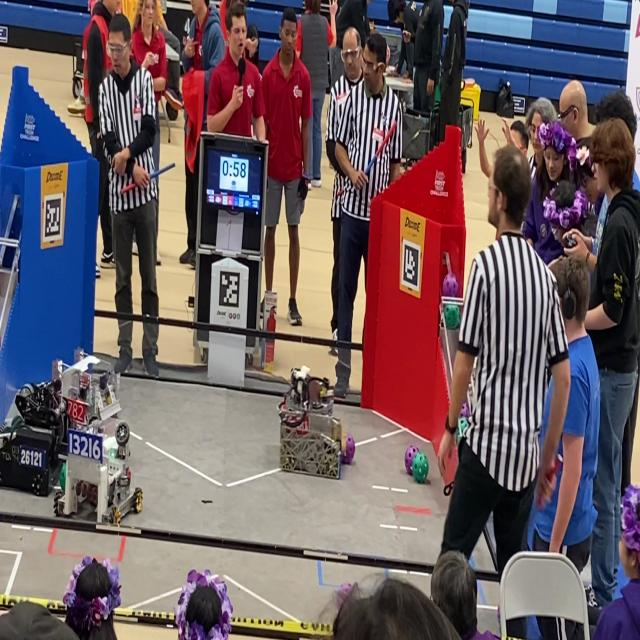artifact_green: (412, 452, 428, 484), (444, 304, 460, 330), (456, 418, 468, 441), (59, 463, 66, 491), (11, 415, 24, 429), (458, 417, 468, 434), (461, 401, 470, 418), (0, 422, 9, 432)
artifact_purple: (442, 273, 458, 297), (405, 446, 418, 475), (343, 434, 355, 464), (338, 582, 352, 606), (461, 402, 470, 418)
